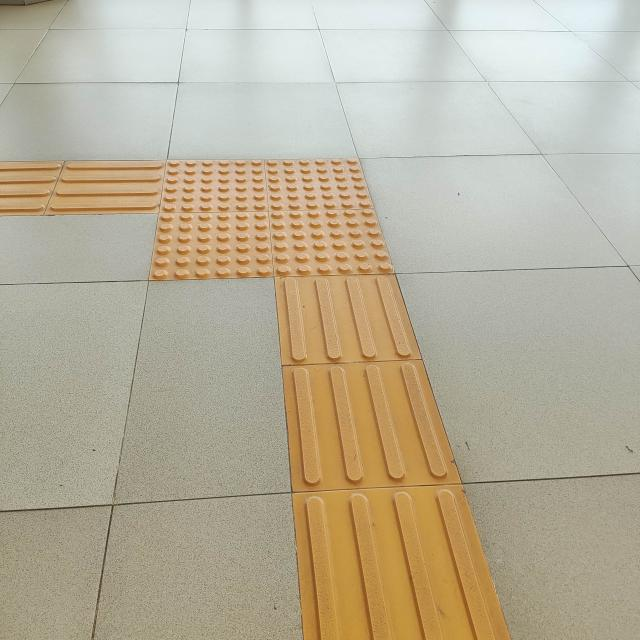kiri: (22, 111, 441, 331)
